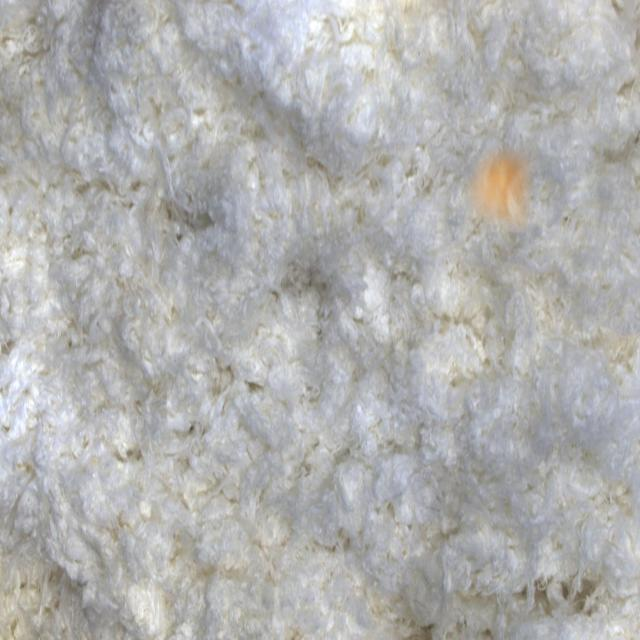dust: (465, 142, 537, 233)
